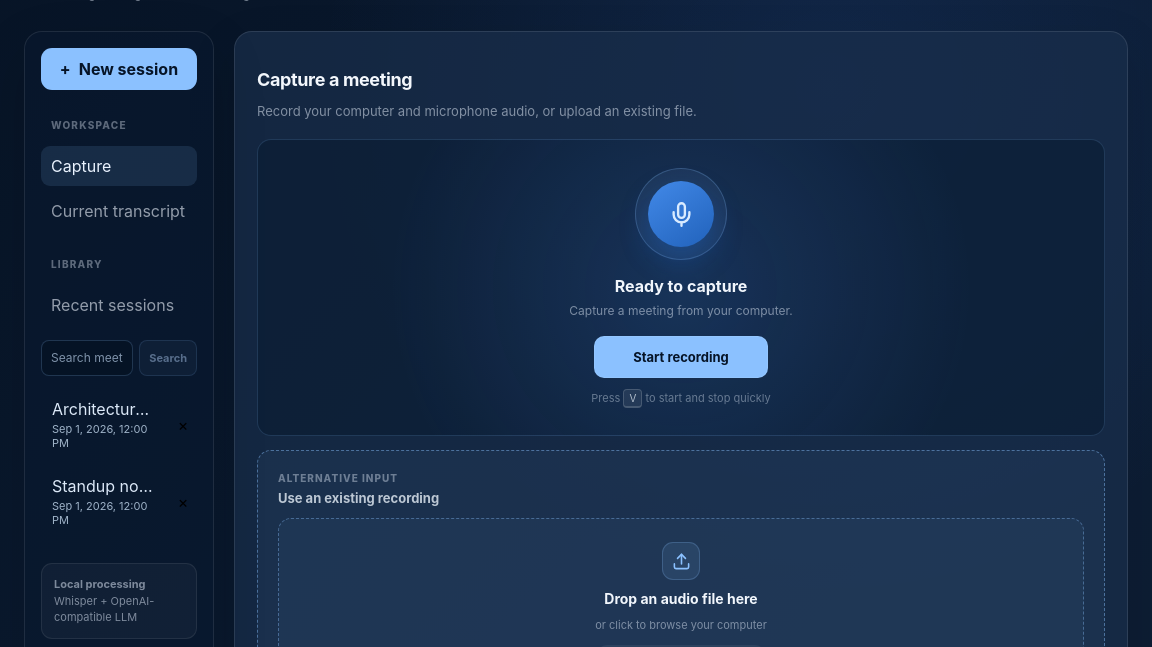
Test case: App live transcript editor › restores persisted titles and notes when selecting saved meetings
Click the button "Architecture review Sep 1, 2026, 12:00 PM" at point(103, 424), box [41,389,165,460]
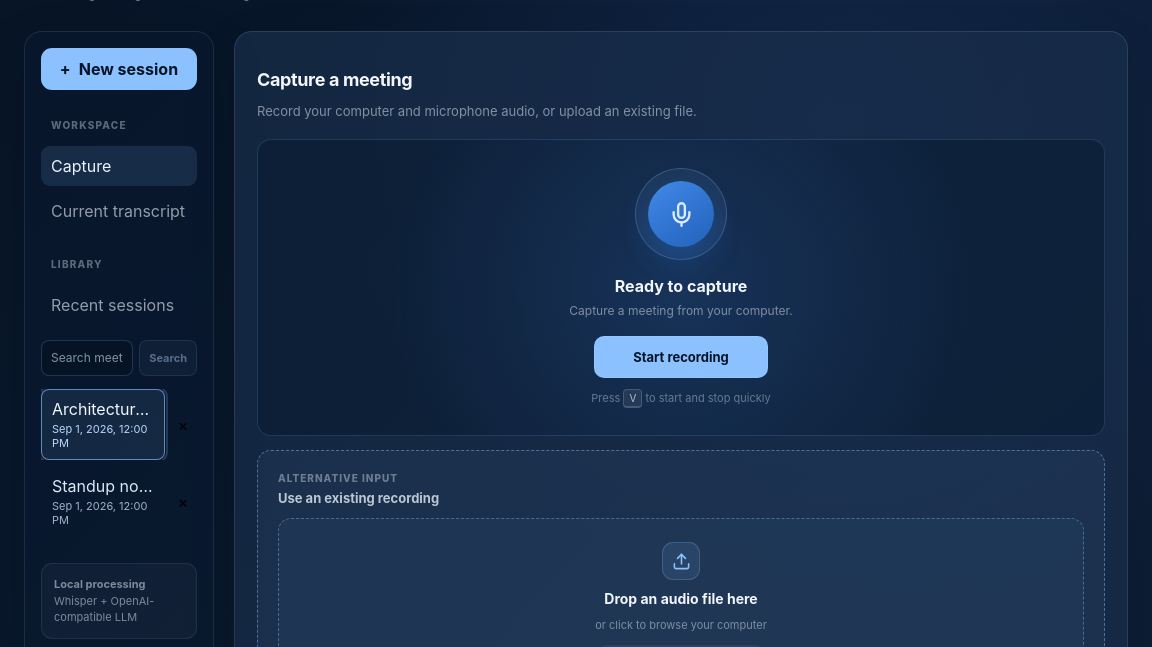
Click the button "Standup notes Sep 1, 2026, 12:00 PM" at point(103, 502), box [41,466,165,537]
(page scrolled)
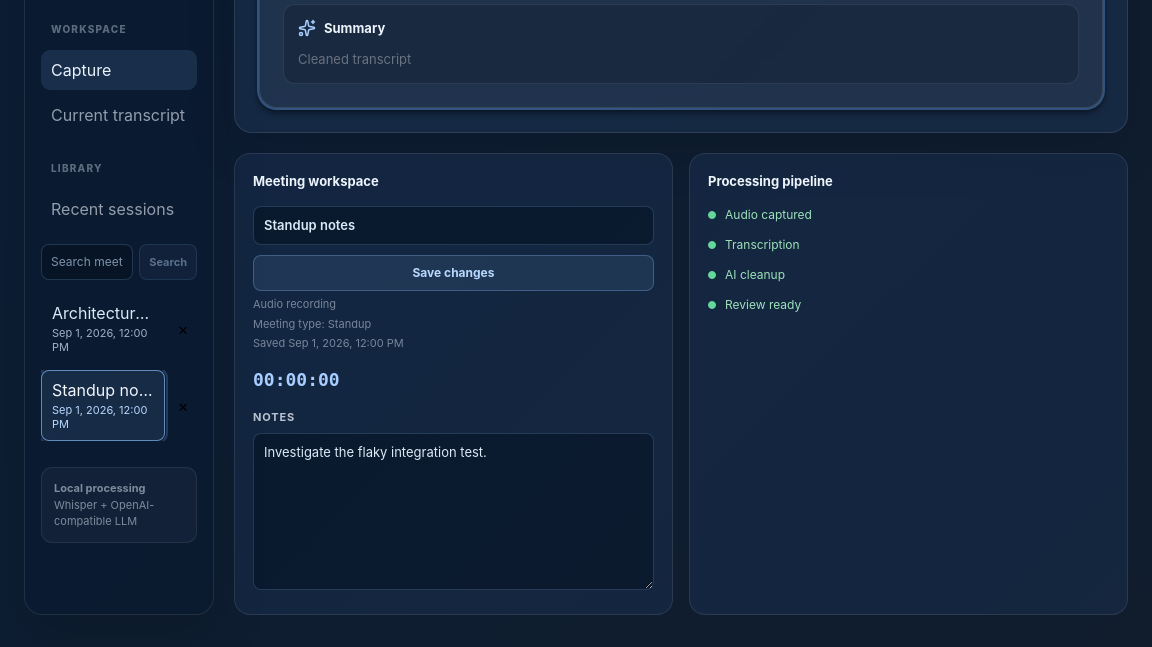
Check: the field named "Meeting title" holds "Standup notes", box [253,206,654,245]
Check: the text box named "meeting notes" holds "Investigate the flaky integration test.", box [253,433,654,590]
Check: the text "Meeting type: Standup" is shown, box [253,317,371,331]
